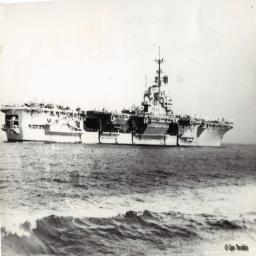Portanaves: (2, 45, 235, 143)
